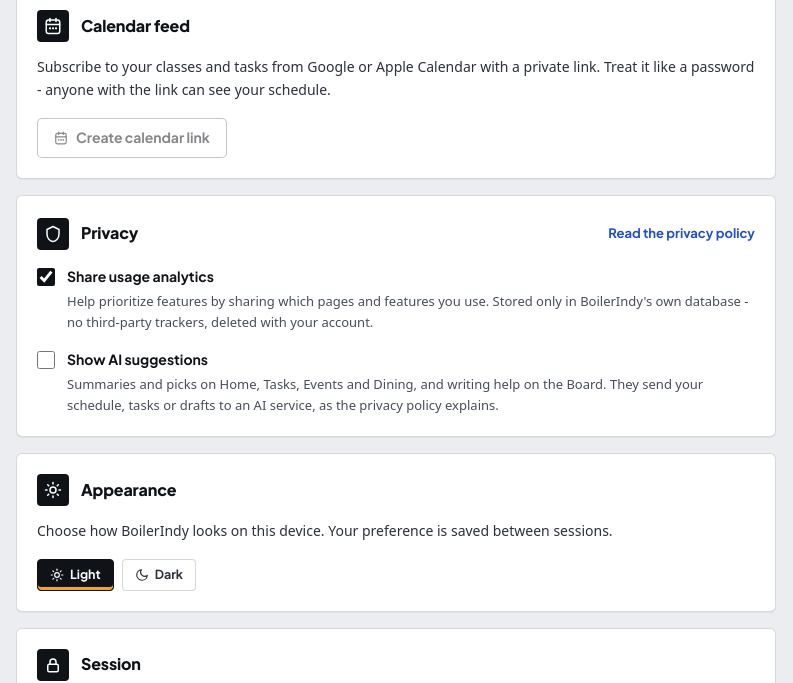
Test: Settings: AI suggestions › shows why the choice could not be saved
This screenshot has width=793, height=683.
(page scrolled)
Click the checkbox labelled "Show AI suggestions". click: click(46, 360)
box: [37, 351, 55, 369]
(page scrolled)
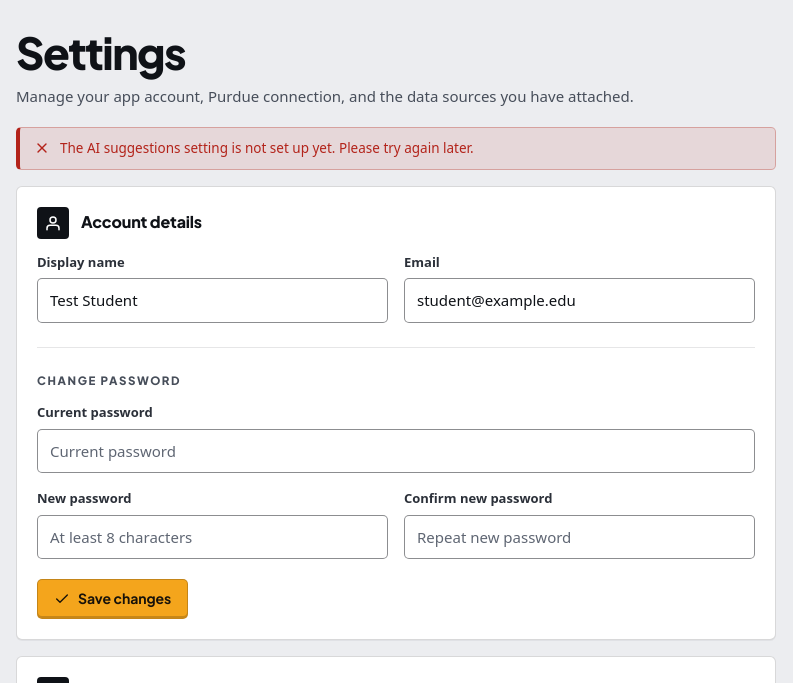
Now the text "The AI suggestions setting is not set up yet. Please try again later." is shown, box [60, 138, 474, 159]
